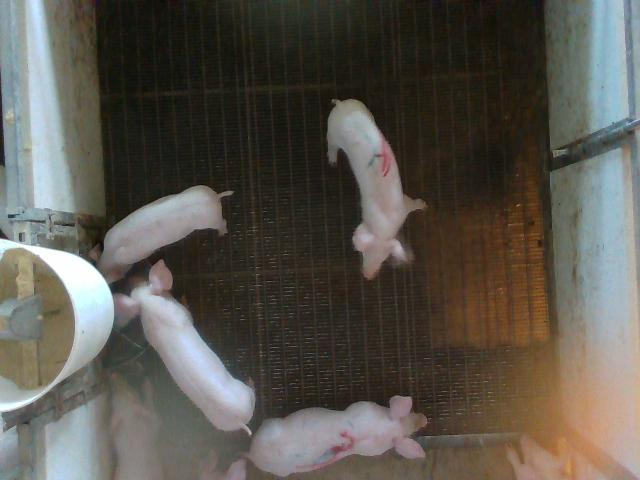pig-3: (248, 396, 428, 476)
pig-4: (328, 99, 426, 278)
